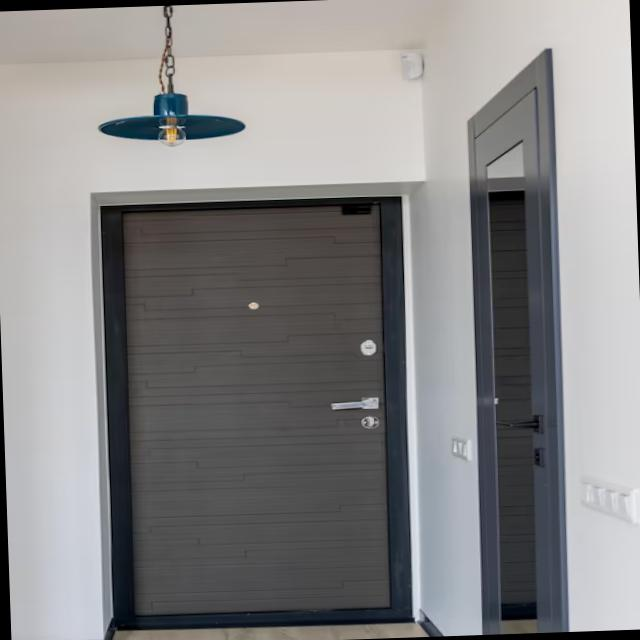door: (102, 194, 416, 630), (464, 49, 569, 634)
